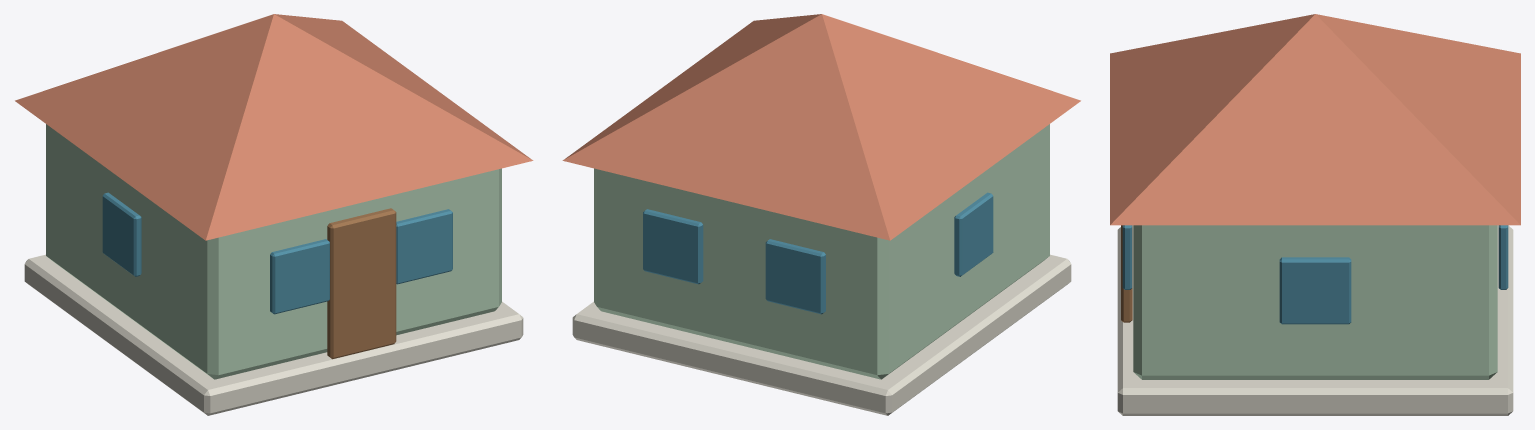
The model's file is RES_LOW_1x1_002.glb.
3 renders of one model, left to right at view 1: azimuth 30°, elevation 25°; view 2: azimuth 150°, elevation 25°; view 3: azimuth 270°, elevation 25°, orthographic. The views are drawn at different scales.
Visible parts, largest first — view 1: RES_LOW_1x1_002_Visual; view 2: RES_LOW_1x1_002_Visual; view 3: RES_LOW_1x1_002_Visual.
Part boxes in pixels (left/top/right/bottom): RES_LOW_1x1_002_Visual: left=15, top=14, right=533, bottom=415; RES_LOW_1x1_002_Visual: left=562, top=14, right=1080, bottom=415; RES_LOW_1x1_002_Visual: left=1110, top=14, right=1520, bottom=415.
Size of what is drawn, in the model's own units: 1.59 by 1.38 by 1.6.
